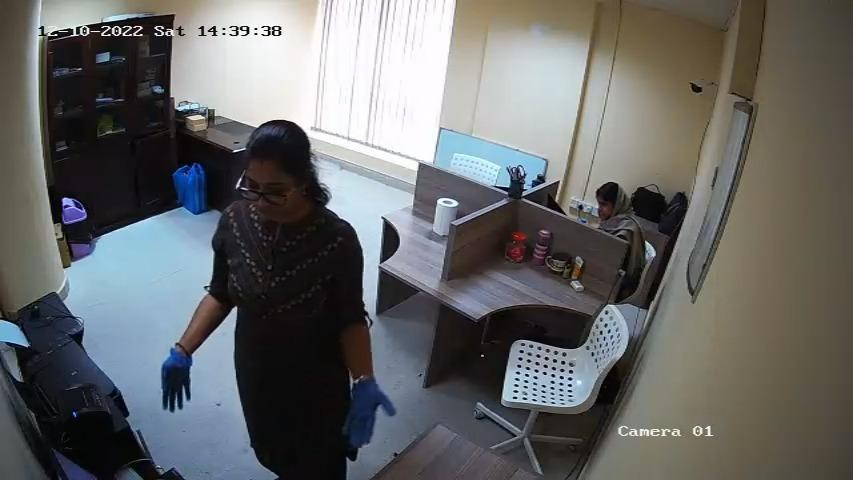apron: (339, 382, 395, 450), (152, 347, 196, 416)
no_gloves: (235, 114, 340, 242), (584, 174, 642, 234)
no_hairnet: (244, 188, 308, 230), (593, 200, 616, 220)
